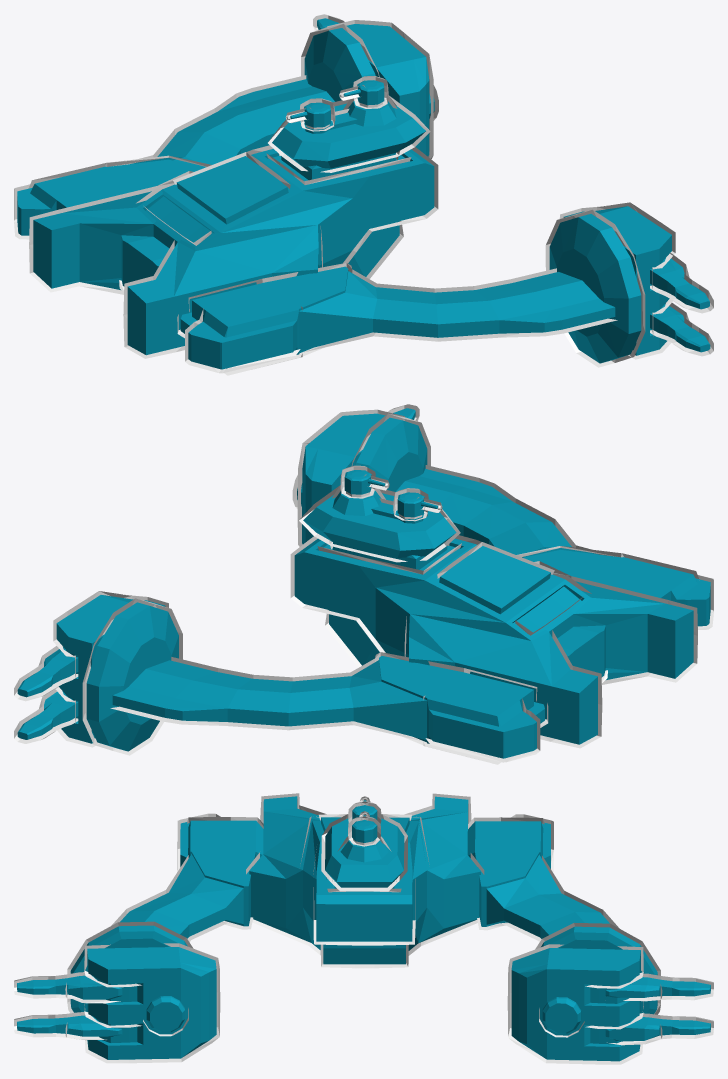
The model's file is ship7_blue.glb.
3 renders of one model, top to bottom at view 1: azimuth 30°, elevation 25°; view 2: azimuth 150°, elevation 25°; view 3: azimuth 270°, elevation 25°, orthographic. The views are drawn at different scales.
Visible parts, largest first — view 1: ME_ship_IndexedFaceSet; view 2: ME_ship_IndexedFaceSet; view 3: ME_ship_IndexedFaceSet.
Part boxes in pixels (x1=…): ME_ship_IndexedFaceSet: x1=14, y1=14, x2=713, y2=375; ME_ship_IndexedFaceSet: x1=14, y1=404, x2=713, y2=764; ME_ship_IndexedFaceSet: x1=14, y1=793, x2=713, y2=1064.
Size of the model in its own units: 238 by 105 by 355.
